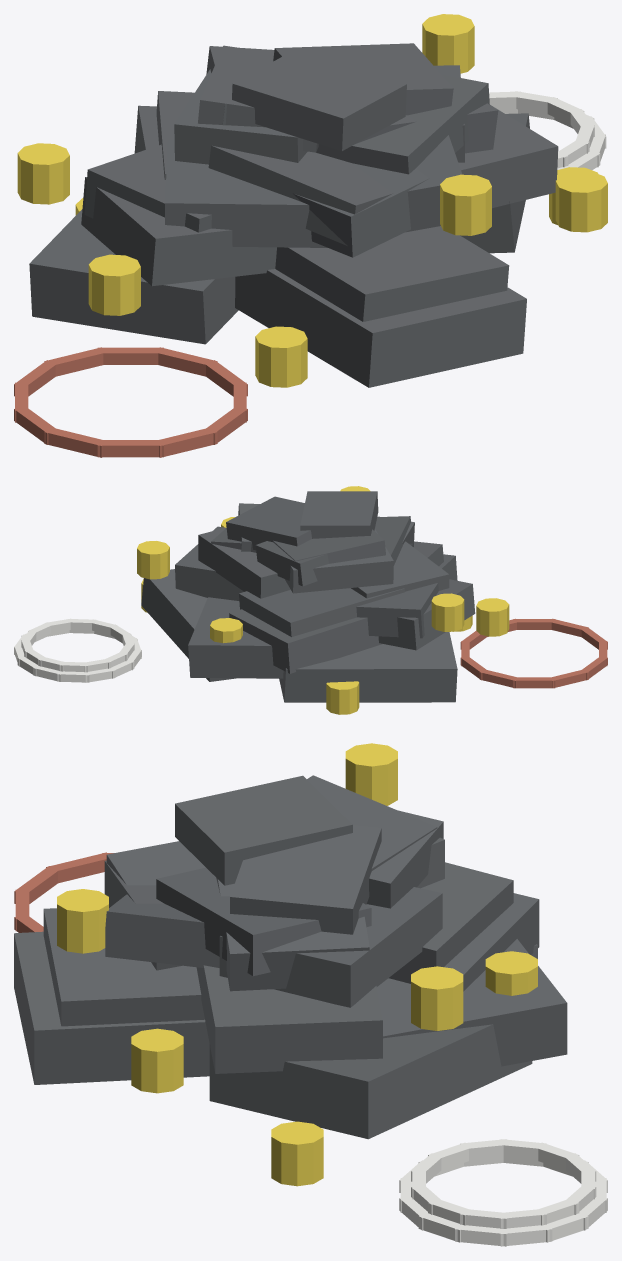
Rendered from fish-market-and-trawler-quay-fish-market-and-trawler-q-4ee96670__37310.glb.
3 renders of one model, top to bottom at view 1: azimuth 30°, elevation 25°; view 2: azimuth 150°, elevation 25°; view 3: azimuth 270°, elevation 25°, orthographic. The views are drawn at different scales.
Visible parts, largest first — view 1: fish-market-and-trawler-quay-net-pile; view 2: fish-market-and-trawler-quay-net-pile; view 3: fish-market-and-trawler-quay-net-pile.
Boxes of the visible parts, box(x1,y1,x2,y2) form: fish-market-and-trawler-quay-net-pile: box(14, 14, 607, 457); fish-market-and-trawler-quay-net-pile: box(14, 486, 607, 714); fish-market-and-trawler-quay-net-pile: box(14, 743, 607, 1246).
Bounding box in the file's own units: 3.9 × 1.14 × 2.59.
